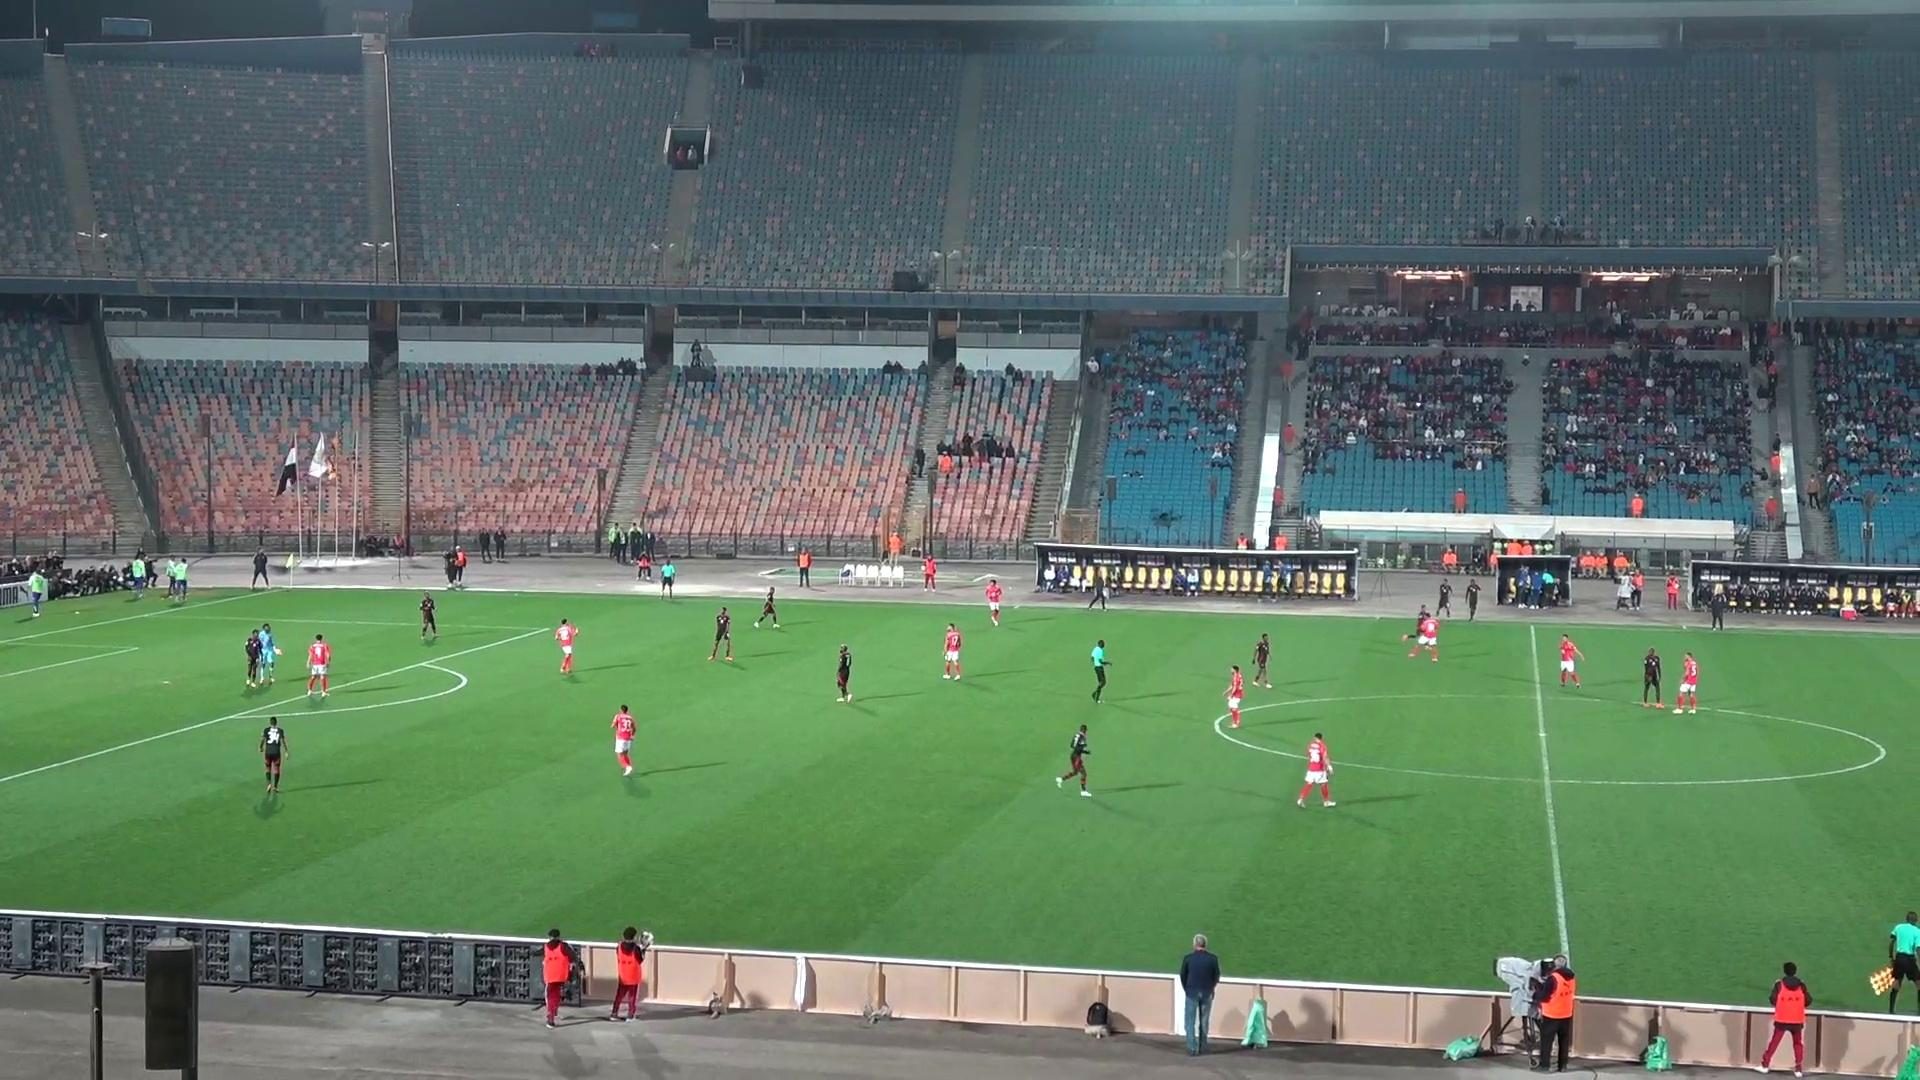GK2: (251, 622, 280, 684)
Refree: (1871, 913, 1919, 1011), (1089, 640, 1113, 704), (640, 558, 678, 597)
Team1: (1296, 732, 1335, 807), (1400, 607, 1441, 661), (611, 704, 637, 777), (975, 574, 1007, 626), (305, 634, 332, 695), (1672, 651, 1698, 713), (1222, 665, 1246, 729), (553, 618, 578, 675), (1559, 633, 1584, 686), (942, 624, 963, 680)
Team2: (1055, 724, 1091, 796), (258, 717, 289, 795), (1400, 605, 1431, 655), (1639, 647, 1662, 708), (708, 607, 732, 661), (243, 629, 262, 690), (1251, 633, 1273, 688), (752, 588, 781, 628), (419, 592, 439, 642), (836, 644, 851, 702)
